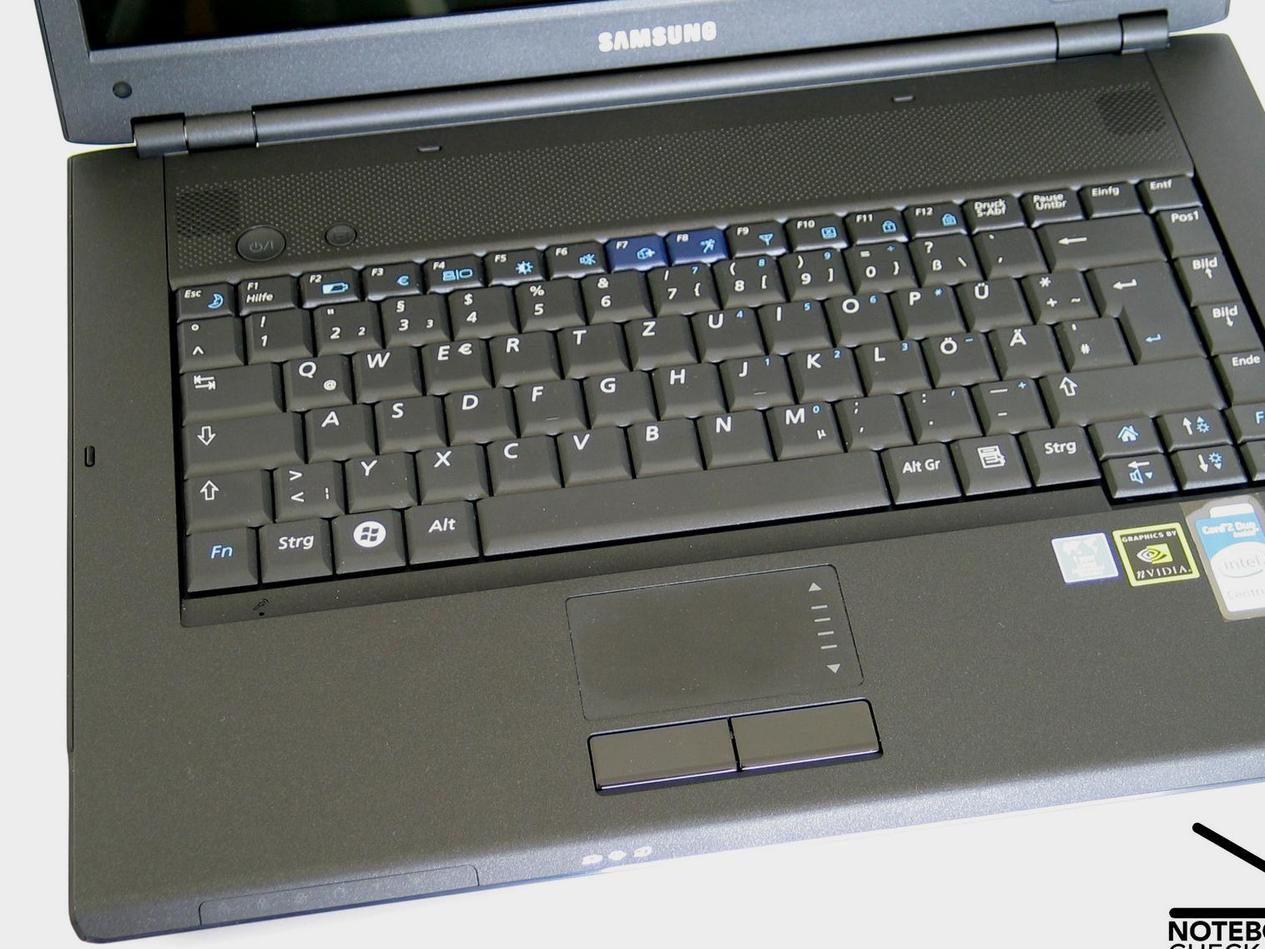0: (843, 236, 913, 289)
1: (243, 304, 305, 359)
2: (310, 297, 376, 349)
3: (376, 289, 444, 341)
4: (446, 281, 511, 334)
5: (511, 274, 578, 326)
6: (578, 267, 645, 319)
7: (646, 259, 713, 311)
8: (712, 251, 779, 304)
9: (779, 244, 847, 296)
a: (302, 401, 369, 456)
accent: (971, 223, 1041, 274)
ae: (989, 320, 1060, 374)
alt-left: (401, 497, 478, 561)
altgr-right: (879, 439, 959, 501)
b: (624, 414, 699, 473)
c: (483, 433, 557, 490)
caret: (174, 312, 236, 366)
comma: (833, 390, 907, 446)
d: (441, 384, 511, 439)
del: (1035, 213, 1158, 266)
e: (417, 335, 486, 389)
enter: (1085, 258, 1200, 360)
f: (512, 375, 581, 432)
g: (581, 368, 651, 422)
h: (650, 359, 720, 414)
hash: (1052, 314, 1128, 367)
i: (757, 296, 827, 349)
j: (718, 350, 789, 407)
k: (787, 344, 859, 399)
keyboard: (149, 168, 1265, 635)
l: (854, 336, 925, 390)
less: (270, 456, 340, 516)
m: (764, 398, 838, 455)
minus: (970, 375, 1046, 431)
n: (694, 406, 769, 464)
o: (822, 289, 895, 342)
oe: (920, 329, 996, 383)
p: (890, 282, 960, 334)
plus: (1019, 265, 1092, 319)
point: (901, 383, 976, 438)
q: (278, 352, 350, 406)
r: (486, 328, 555, 382)
s: (371, 392, 439, 449)
shift-left: (179, 467, 267, 525)
shift-lock: (179, 409, 297, 467)
shift-right: (1036, 359, 1220, 421)
space: (471, 445, 889, 552)
ss: (907, 228, 975, 281)
strg-left: (255, 515, 331, 580)
strg-right: (1019, 422, 1100, 484)
t: (555, 319, 622, 373)
tab: (178, 359, 274, 414)
u: (689, 304, 760, 357)
ue: (955, 274, 1026, 326)
v: (554, 424, 627, 482)
w: (350, 343, 416, 398)
x: (414, 440, 483, 498)
y: (342, 449, 414, 509)
z: (622, 311, 691, 364)
